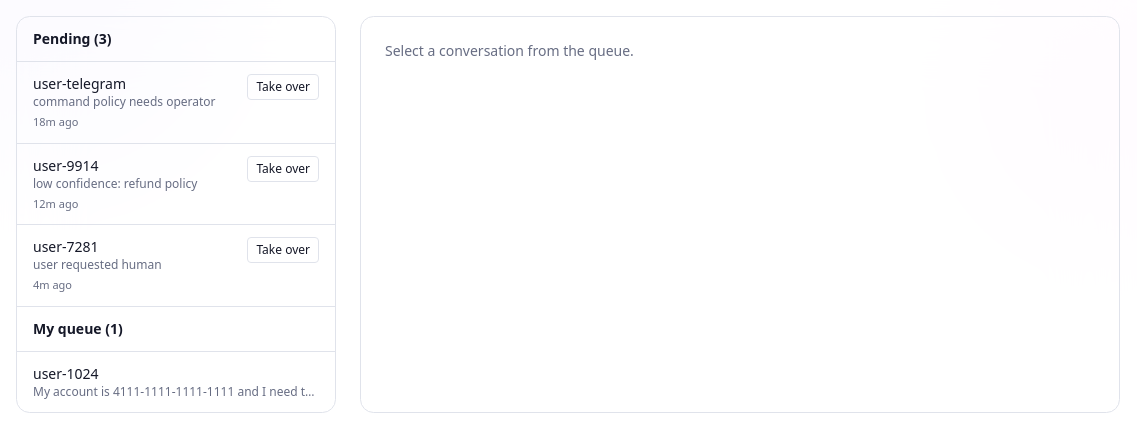
Test: InboxScreen › failed remote claim rolls the optimistic state back
Step 1. Click the button with test id "claim-11111111-1111-1111-1111-111111111111" → [283, 250], box [247, 237, 319, 263]
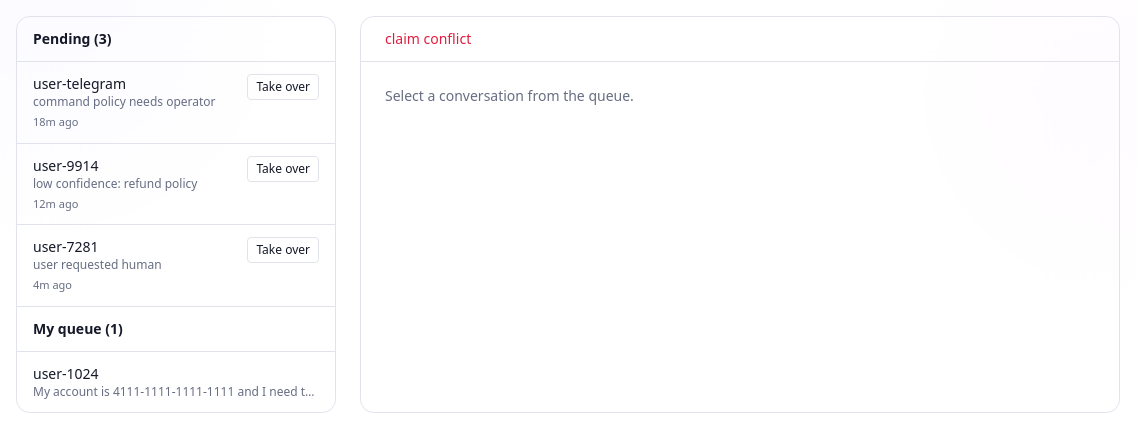
Expected: the list item with test id "pending-row-11111111-1111-1111-1111-111111111111" is shown, [17, 225, 335, 306]
Expected: the message with test id "inbox-action-error" reads "claim conflict", [385, 29, 471, 48]
